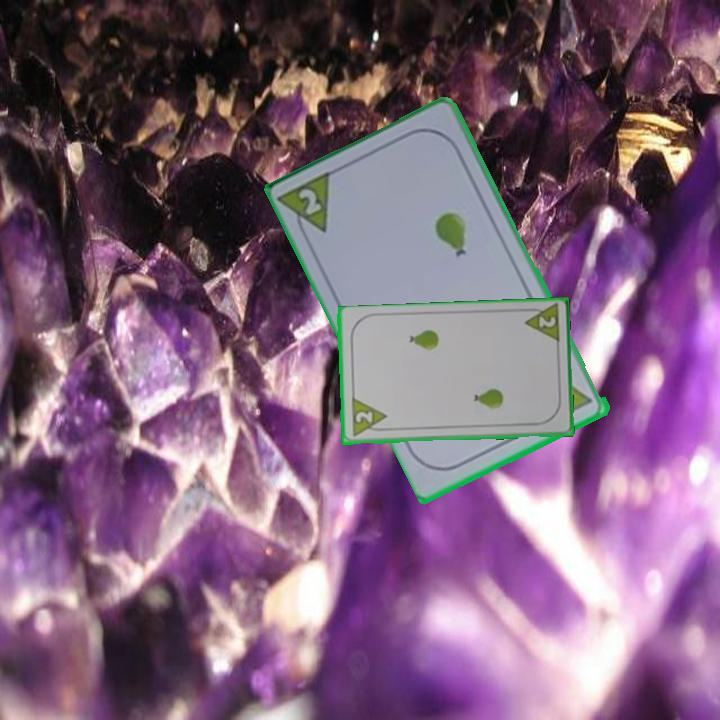2p: (519, 302, 562, 346), (348, 396, 389, 440), (295, 184, 326, 219)
